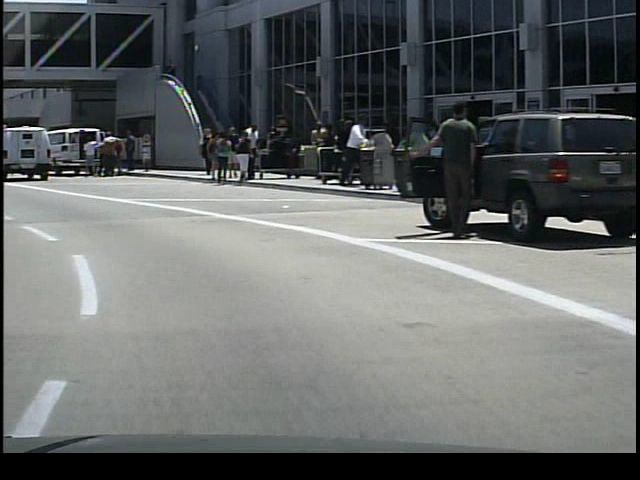person: (413, 80, 483, 243), (333, 109, 367, 195), (236, 122, 261, 182), (230, 129, 252, 180), (118, 129, 140, 177), (97, 131, 117, 182), (194, 125, 214, 176), (80, 136, 99, 182)
